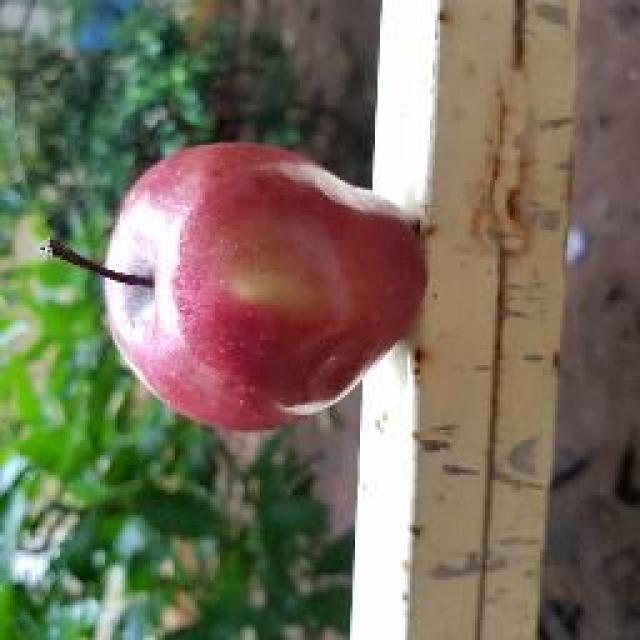Good_Apple: (58, 142, 428, 435)
